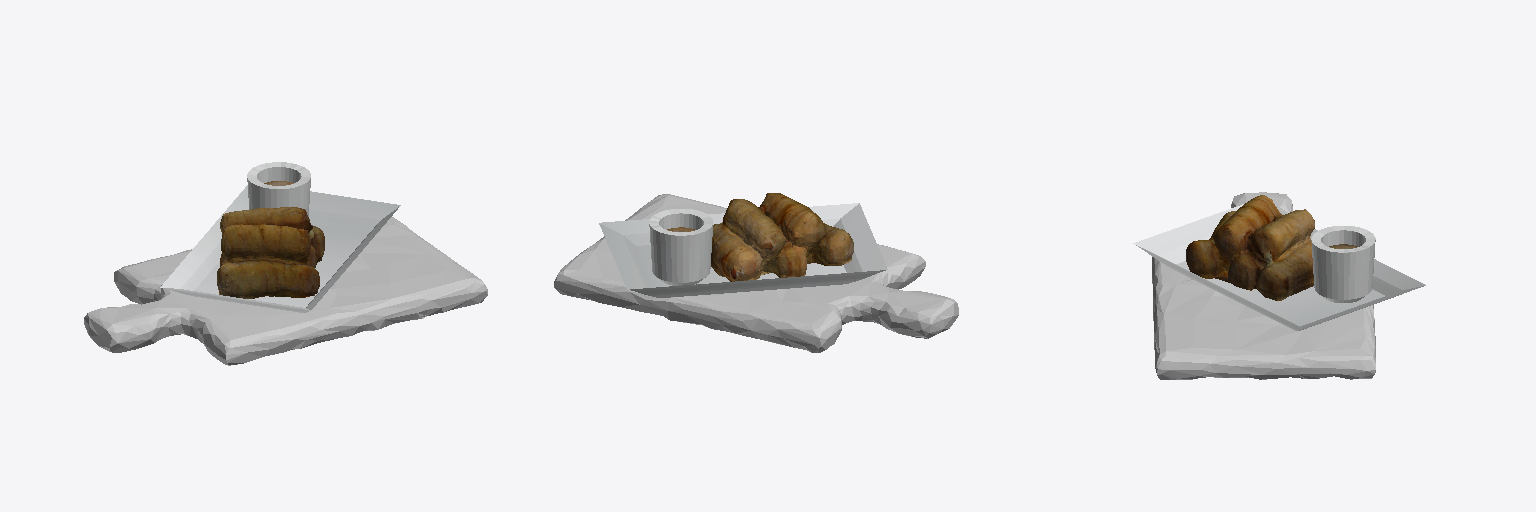
3 views of the same model, side by side, from view 1: azimuth 30°, elevation 25°; view 2: azimuth 150°, elevation 25°; view 3: azimuth 270°, elevation 25° (orthographic).
Parts seen in each view (by area): view 1: Group_Global.001, Group_Global, Circle, Cylinder; view 2: Group_Global.001, Group_Global, Circle, Cylinder; view 3: Group_Global.001, Group_Global, Circle, Cylinder.
Boxes of the visible parts, box(x1,y1,x2,y2) form: Group_Global.001: box(84, 217, 487, 365); Group_Global: box(217, 207, 324, 298); Circle: box(160, 185, 400, 312); Cylinder: box(247, 162, 310, 216); Group_Global.001: box(554, 194, 958, 352); Group_Global: box(711, 193, 853, 281); Circle: box(599, 203, 887, 297); Cylinder: box(649, 209, 712, 285); Group_Global.001: box(1152, 192, 1375, 379); Group_Global: box(1186, 195, 1314, 300); Circle: box(1133, 204, 1425, 330); Cylinder: box(1311, 226, 1375, 302).
Bounding box in the file's own units: 0.6964 × 0.1721 × 0.517.
4 materials, 3 textured.